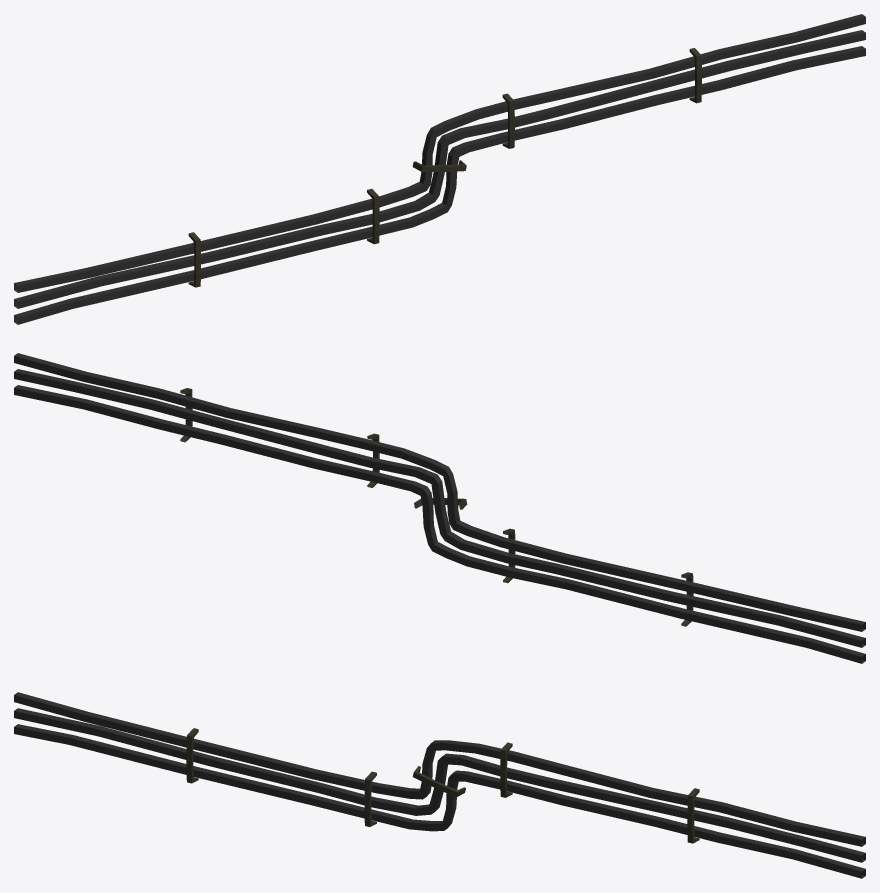
The model's file is SW_ENV_Wires3_FlatWall_SBend_05m.fbx.
The picture shows the model from 3 angles, top to bottom: view 1: azimuth 30°, elevation 25°; view 2: azimuth 150°, elevation 25°; view 3: azimuth 330°, elevation 25°; orthographic projection.
Parts seen in each view (by area): view 1: SW_ENV_Wires3_FlatWall_SBend_05m; view 2: SW_ENV_Wires3_FlatWall_SBend_05m; view 3: SW_ENV_Wires3_FlatWall_SBend_05m.
Part boxes in pixels (box(x1,y1,x2,y2)): SW_ENV_Wires3_FlatWall_SBend_05m: box(14, 14, 865, 324); SW_ENV_Wires3_FlatWall_SBend_05m: box(14, 353, 865, 663); SW_ENV_Wires3_FlatWall_SBend_05m: box(14, 692, 865, 878).
Size of the model in its own units: 500 by 63.66 by 7.61.
